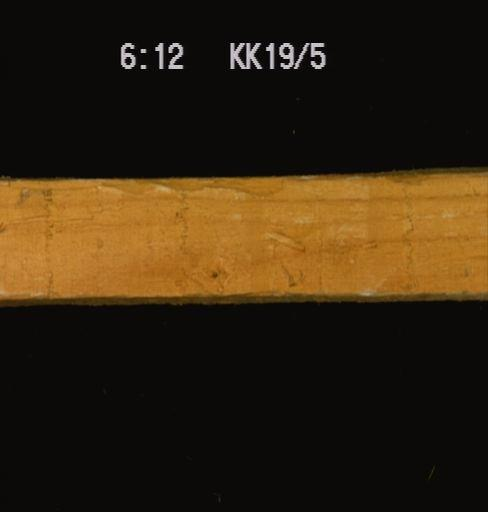small_knot: (204, 264, 224, 284)
wave: (88, 176, 295, 204)
